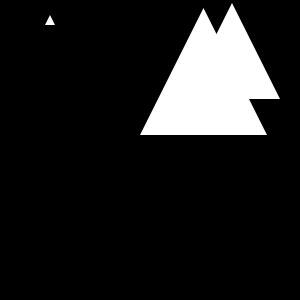rectangle: (212, 54, 244, 86)
triangle: (140, 8, 267, 135), (184, 3, 280, 99), (45, 15, 55, 25)
